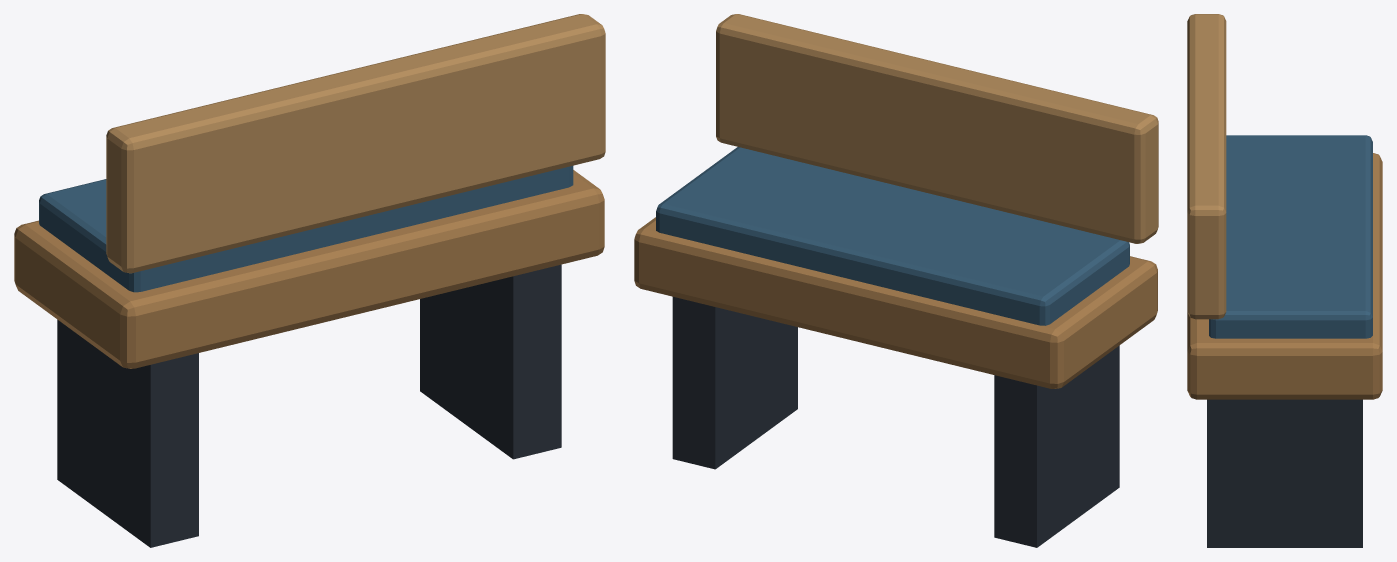
The model's file is hall-bench.glb.
3 renders of one model, left to right at view 1: azimuth 30°, elevation 25°; view 2: azimuth 150°, elevation 25°; view 3: azimuth 270°, elevation 25°, orthographic. The views are drawn at different scales.
Parts seen in each view (by area): view 1: interior-apt-wood2--1, interior-apt-navy--1, interior-apt-wood--1, interior-apt-blue--1; view 2: interior-apt-wood2--1, interior-apt-blue--1, interior-apt-navy--1, interior-apt-wood--1; view 3: interior-apt-blue--1, interior-apt-navy--1, interior-apt-wood--1, interior-apt-wood2--1.
Boxes of the visible parts, x1,y1,x2,y2 form: interior-apt-wood2--1: [106, 14, 605, 273]; interior-apt-navy--1: [57, 264, 561, 547]; interior-apt-wood--1: [14, 170, 604, 368]; interior-apt-blue--1: [39, 165, 573, 292]; interior-apt-wood2--1: [716, 14, 1158, 243]; interior-apt-blue--1: [656, 147, 1129, 325]; interior-apt-navy--1: [672, 297, 1119, 547]; interior-apt-wood--1: [634, 217, 1157, 388]; interior-apt-blue--1: [1209, 135, 1372, 338]; interior-apt-navy--1: [1207, 399, 1362, 547]; interior-apt-wood--1: [1187, 153, 1382, 399]; interior-apt-wood2--1: [1187, 14, 1226, 319].
Bounding box in the file's own units: 1.2 × 1 × 0.5.
